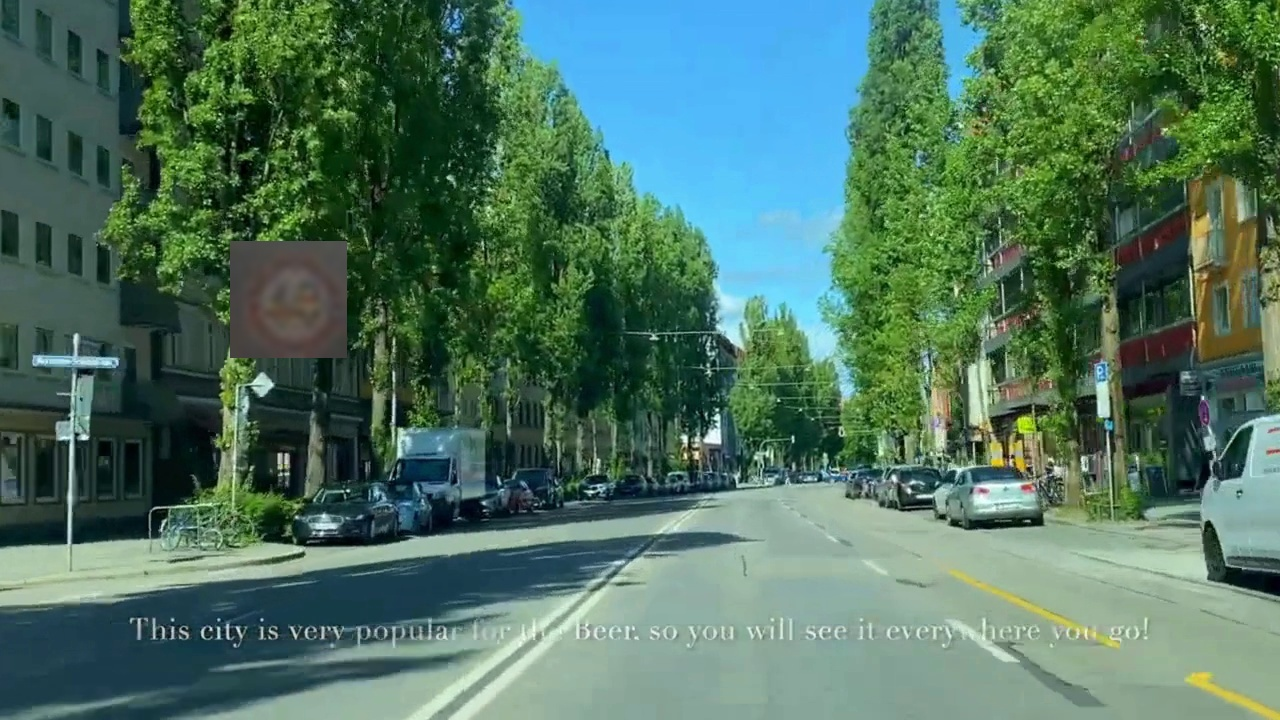Speed 60: (230, 241, 347, 358)
